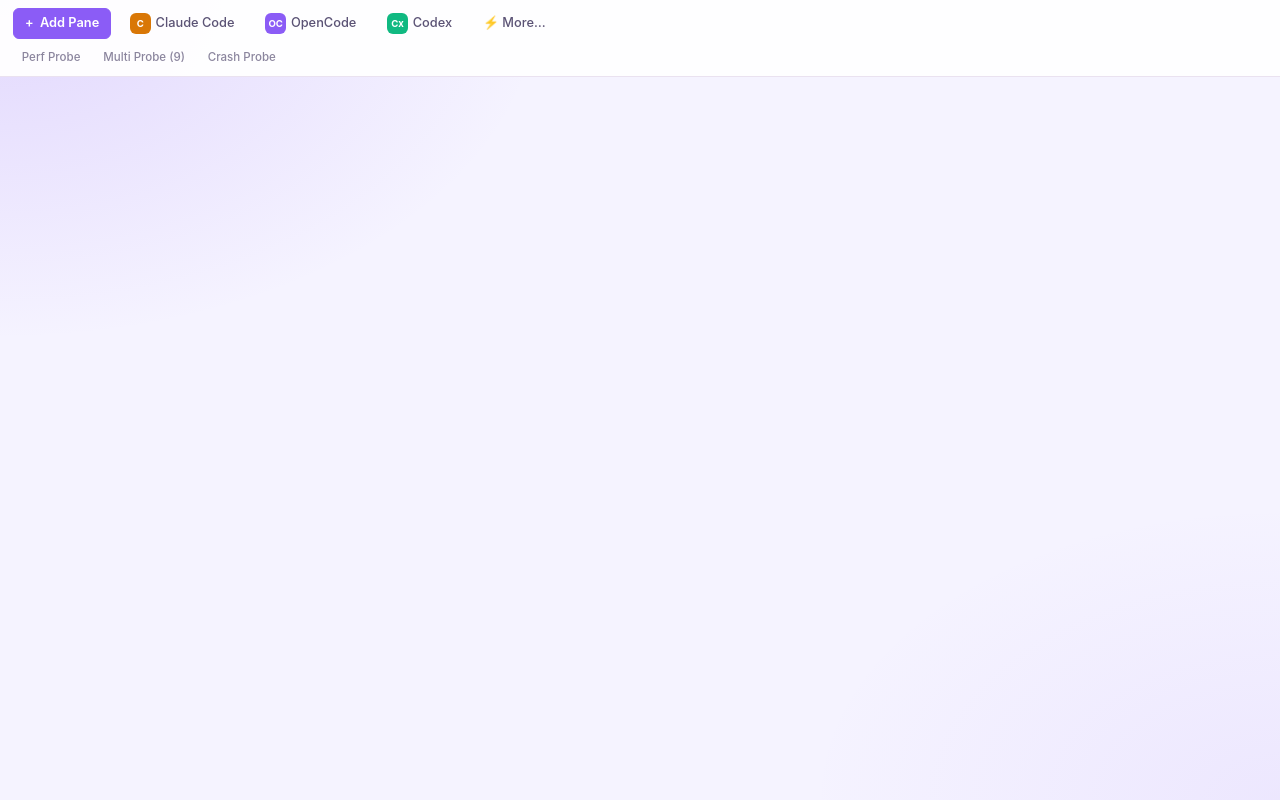
Test: TerminalLauncher perf probes › runs single perf probe and shows spawn latency
Click the button "Perf Probe" at (51, 57), box top-left (13, 45), bottom-right (89, 70)
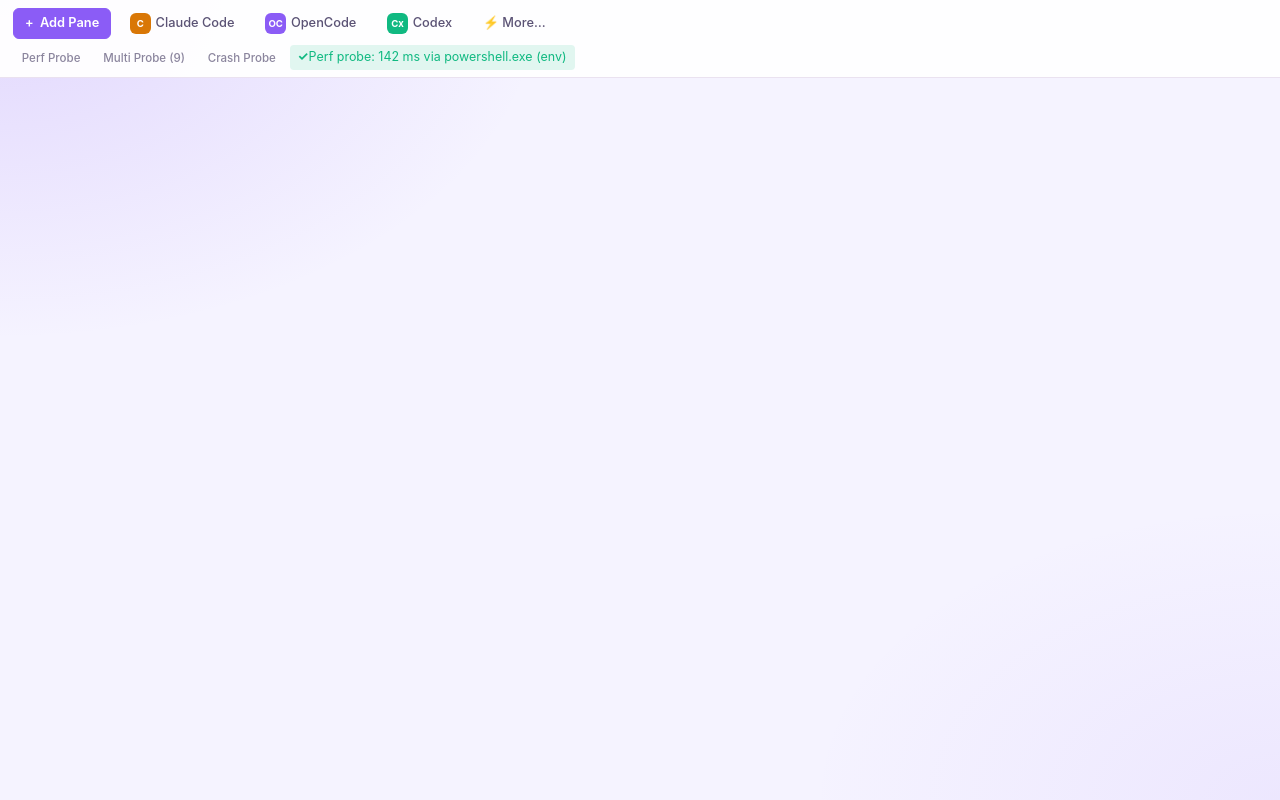
Now the text "Perf probe: 142 ms via powershell.exe (env)" is shown, box top-left (290, 45), bottom-right (575, 70)
